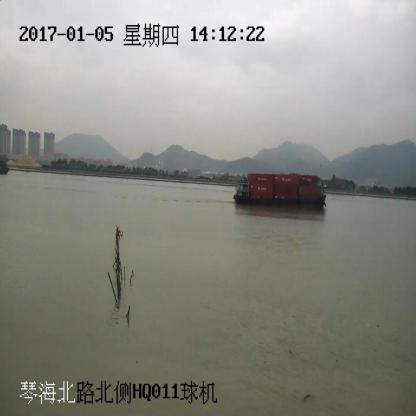Container Ship: (233, 173, 327, 211)
